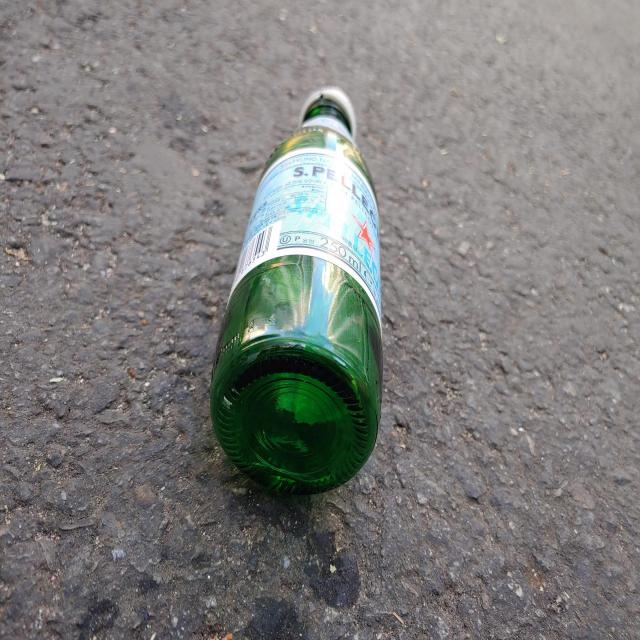glass: (210, 86, 383, 494)
